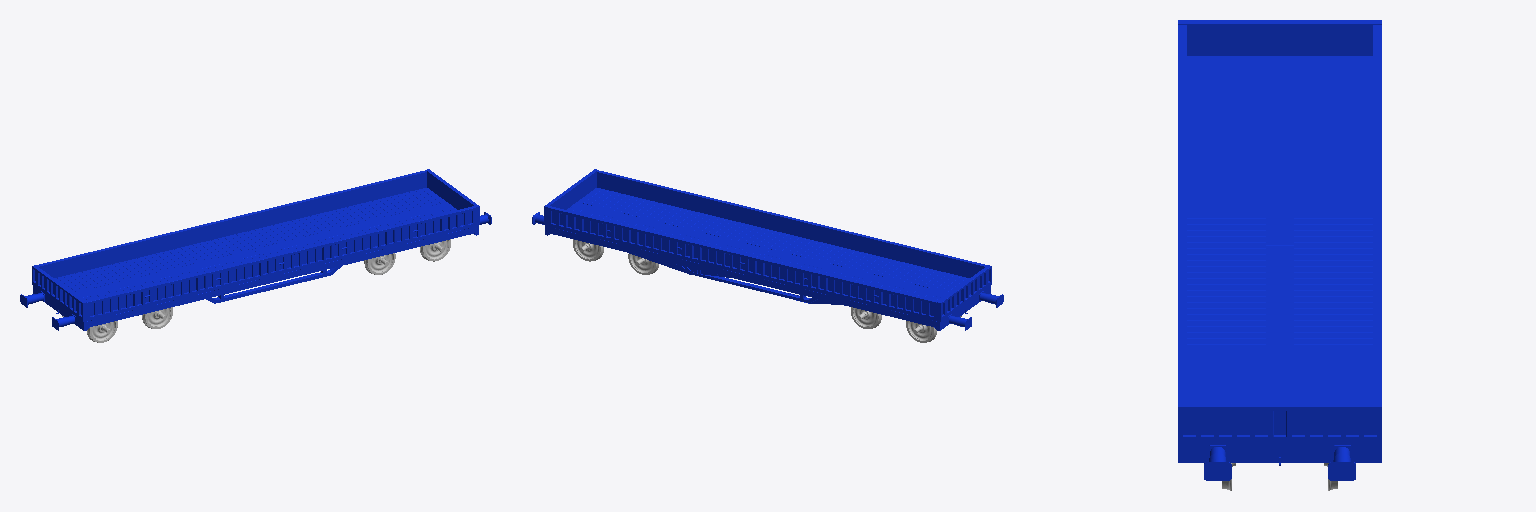
--- What the picture shows (computed from the rendered views, not written in the file) ---
Views: 3 orthographic renders of the robot side by side, from view 1: azimuth 30°, elevation 25°; view 2: azimuth 150°, elevation 25°; view 3: azimuth 270°, elevation 25°.
Model flachwagen with 29 links and 28 joints (4 revolute, 12 continuous, 12 fixed), rooted at base_link, posed every joint at zero.
Visible links, largest first — view 1: base_link; view 2: base_link; view 3: base_link, buffer11_link, buffer12_link.
Boxes of the visible links, left/top/right/bottom form: base_link: left=32, top=169, right=479, bottom=330; base_link: left=544, top=169, right=991, bottom=330; base_link: left=1178, top=20, right=1381, bottom=465; buffer11_link: left=1328, top=445, right=1355, bottom=480; buffer12_link: left=1204, top=445, right=1231, bottom=480.
Size in the robot's own frame: 14.02 by 2.86 by 1.74 metres.
Meshes: 5 distinct files referenced, 9 mesh visuals loaded (3 Collada DAE); not drawn: 4 (reference not matched to a file when rendering).

The robot description file, URDF, robot "flachwagen":
<?xml version="1.0"?>
<robot name="flachwagen">
    
    <material name="silver">
        <color rgba=".1 .25 .875 1"/>
    </material>
            
    <!-- _______________________________________________ Body _______________________________________________ -->
    <link name="base_link">
        <visual>
            <origin xyz="0 0 0" rpy="0 0 0"/>
            <geometry>
                <mesh filename="package://coupling_detection_gazebo/models/meshes/Remms_Wagenkasten.dae" scale="1 1 1"/>
            </geometry>
            <material name="silver"/>
        </visual>
        <collision>
            <origin xyz="0 0 0" rpy="0 0 0"/>
            <geometry>
                <mesh filename="package://coupling_detection_gazebo/models/meshes/Remms_Wagenkasten.dae" scale="1 1 1"/>
            </geometry>
        </collision>
        <inertial>
            <origin xyz="0 0 0.7" rpy="0 0 0"/>
            <mass value="11789"/>
            <inertia ixx="10091" iyy="178052" izz="187990" ixy="0" ixz="0" iyz="0"/>
        </inertial>
    </link>
    <gazebo reference="base_link">
        <material>Gazebo/Signalblau</material>
    </gazebo>
    <!-- _______________________________________________ Coupling _______________________________________________ -->

     <link name="couplerbase_link">
         <visual>
            <origin xyz="0.5 0 0" rpy="0 0 0"/>
            <geometry>
                <mesh filename="package://coupling_detection_gazebo/models/meshes/UIC-Haken.dae" scale="1 1 1"/>
            </geometry>
            <material name="silver"/>
         </visual>
         <collision name='coupling_collision'>
            <origin xyz="0.5 0 0" rpy="0 0 0"/>
            <geometry>
                <mesh filename="package://coupling_detection_gazebo/models/meshes/UIC-Haken.dae" scale="1 1 1"/>
            </geometry>
		</collision>
        <inertial>
            <origin xyz=".575 0 0" rpy="0 0 0"/>
            <mass value="40"/>
            <inertia ixx="0.5" iyy=".5" izz=".8" ixy="0" ixz="0" iyz="0"/>
        </inertial>
     </link>

    <gazebo reference="couplerbase_link">
        <material>Gazebo/Graphitschwarz</material>
    </gazebo> 

    <joint name="couplerbase_joint" type="revolute">
        <parent link="base_link"/>
        <child link="couplerbase_link"/>
        <origin rpy="0 0 0" xyz="5.89 0 0.535"/>
        <limit lower="-.1" upper=".1" effort="1.0" velocity="0.5"/>
        <axis xyz="0 0 1"/>
        <dynamics damping="100"/>
    </joint>   

    <gazebo reference="couplerbase_joint">
        <implicitSpringDamper>true</implicitSpringDamper>
        <springStiffness>100</springStiffness>
    </gazebo> 
    
    <link name="couplerbase2_link">
         <visual>
            <origin xyz="0.5 0 0" rpy="0 0 0"/>
            <geometry>
                <mesh filename="package://coupling_detection_gazebo/models/meshes/UIC-Haken.dae" scale="1 1 1"/>
            </geometry>
            <material name="silver"/>
         </visual>
         <collision name='coupling_collision'>
            <origin xyz="0.5 0 0" rpy="0 0 0"/>
            <geometry>
                <mesh filename="package://coupling_detection_gazebo/models/meshes/UIC-Haken.dae" scale="1 1 1"/>
            </geometry>
		</collision>
        <inertial>
            	<origin xyz="0.575 0 0" rpy="0 0 0"/>
            	<mass value="40"/>
            <inertia ixx="0.5" iyy=".5" izz=".8" ixy="0" ixz="0" iyz="0"/>
        </inertial>
    </link>

    <gazebo reference="couplerbase2_link">
        <material>Gazebo/Graphitschwarz</material>
    </gazebo> 

    <joint name="couplerbase2_joint" type="revolute">
        <parent link="base_link"/>
        <child link="couplerbase2_link"/>
        <origin rpy="0 0 3.141592654" xyz="-5.89 0 .535"/>
        <limit lower="-.1" upper=".1" effort="1.0" velocity="0.5"/>
        <axis xyz="0 0 1"/>
        <dynamics damping="100"/>
    </joint>  
    
    <gazebo reference="couplerbase2_joint">
        <implicitSpringDamper>true</implicitSpringDamper>
        <springStiffness>100</springStiffness>
    </gazebo> 

    <!-- _______________________________________________ Seitenpuffern _______________________________________________ -->

    <link name="buffer11_link">
         <visual>
            <origin xyz="0 0 0" rpy="0 0 0"/>
            <geometry>
                <mesh filename="package://coupling_detection_gazebo/models/meshes/Puffer_Einzel.dae" scale="1 1 1"/>
            </geometry>
            <material name="silver"/>
         </visual>
         <collision name='buffer11_collision'>
            <origin xyz="0 0 0" rpy="0 0 0"/>
            <geometry>
                <mesh filename="package://coupling_detection_gazebo/models/meshes/Puffer_Einzel.dae" scale="1 1 1"/>
            </geometry>
		</collision>
        <inertial>
            <origin xyz=".075 0 0" rpy="0 0 0"/>
            <mass value="40"/>
            <inertia ixx="0.5" iyy=".5" izz=".8" ixy="0" ixz="0" iyz="0"/>
        </inertial>
     </link>
    
    <gazebo reference="buffer11_link">
        <material>Gazebo/Graphitschwarz</material>
    </gazebo> 

    <joint name="buffer11_joint" type="fixed">
        <parent link="base_link"/>
        <child link="buffer11_link"/>
        <origin rpy="0 0 0" xyz="6.39 .875 0.52"/>
    </joint>   

    <link name="buffer12_link">
         <visual>
            <origin xyz="0 0 0" rpy="0 0 0"/>
            <geometry>
                <mesh filename="package://coupling_detection_gazebo/models/meshes/Puffer_Einzel.dae" scale="1 1 1"/>
            </geometry>
            <material name="silver"/>
         </visual>
         <collision name='buffer12_collision'>
            <origin xyz="0 0 0" rpy="0 0 0"/>
            <geometry>
                <mesh filename="package://coupling_detection_gazebo/models/meshes/Puffer_Einzel.dae" scale="1 1 1"/>
            </geometry>
		</collision>
        <inertial>
            <origin xyz=".075 0 0" rpy="0 0 0"/>
            <mass value="40"/>
            <inertia ixx="0.5" iyy=".5" izz=".8" ixy="0" ixz="0" iyz="0"/>
        </inertial>
     </link>
    
    <gazebo reference="buffer12_link">
        <material>Gazebo/Graphitschwarz</material>
    </gazebo> 

    <joint name="buffer12_joint" type="fixed">
        <parent link="base_link"/>
        <child link="buffer12_link"/>
        <origin rpy="0 0 0" xyz="6.39 -.875 0.52"/>
    </joint>   

    <link name="buffer21_link">
         <visual>
            <origin xyz="0 0 0" rpy="0 0 0"/>
            <geometry>
                <mesh filename="package://coupling_detection_gazebo/models/meshes/Puffer_Einzel.dae" scale="1 1 1"/>
            </geometry>
            <material name="silver"/>
         </visual>
         <collision name='buffer21_collision'>
            <origin xyz="0 0 0" rpy="0 0 0"/>
            <geometry>
                <mesh filename="package://coupling_detection_gazebo/models/meshes/Puffer_Einzel.dae" scale="1 1 1"/>
            </geometry>
		</collision>
        <inertial>
            <origin xyz=".075 0 0" rpy="0 0 0"/>
            <mass value="40"/>
            <inertia ixx="0.5" iyy=".5" izz=".8" ixy="0" ixz="0" iyz="0"/>
        </inertial>
     </link>
    
    <gazebo reference="buffer21_link">
        <material>Gazebo/Graphitschwarz</material>
    </gazebo> 

    <joint name="buffer21_joint" type="fixed">
        <parent link="base_link"/>
        <child link="buffer21_link"/>
        <origin rpy="0 0 3.141592654" xyz="-6.39 .875 0.52"/>
    </joint>

    <link name="buffer22_link">
         <visual>
            <origin xyz="0 0 0" rpy="0 0 0"/>
            <geometry>
                <mesh filename="package://coupling_detection_gazebo/models/meshes/Puffer_Einzel.dae" scale="1 1 1"/>
            </geometry>
            <material name="silver"/>
         </visual>
         <collision name='buffer22_collision'>
            <origin xyz="0 0 0" rpy="0 0 0"/>
            <geometry>
                <mesh filename="package://coupling_detection_gazebo/models/meshes/Puffer_Einzel.dae" scale="1 1 1"/>
            </geometry>
		</collision>
        <inertial>
            <origin xyz=".075 0 0" rpy="0 0 0"/>
            <mass value="40"/>
            <inertia ixx="0.5" iyy=".5" izz=".8" ixy="0" ixz="0" iyz="0"/>
        </inertial>
     </link>
    
    <gazebo reference="buffer22_link">
        <material>Gazebo/Graphitschwarz</material>
    </gazebo> 

    <joint name="buffer22_joint" type="fixed">
        <parent link="base_link"/>
        <child link="buffer22_link"/>
        <origin rpy="0 0 3.141592654" xyz="-6.39 -.875 0.52"/>
    </joint>
       

    <!-- _______________________________________________ Drehgestell vorne _______________________________________________ -->
    <link name="front_bogie_link">
        <visual>
            <origin xyz="0 0 -0.4" rpy="0 0 0"/>
            <geometry>
                <mesh filename="package://coupling_detection_gazebo/models/meshes/Y25_DG_Rahmen.dae" scale="1 1 1"/>
            </geometry>
            <material name="silver"/>
        </visual>
        <collision>
            <origin xyz="0 0 -0.4" rpy="0 0 0"/>
            <geometry>
                <mesh filename="package://coupling_detection_gazebo/models/meshes/Y25_DG_Rahmen.dae" scale="1 1 1"/>
            </geometry>
        </collision>
        <inertial>
            <origin xyz="0 0 -0.28" rpy="0 0 0"/>
            <mass value="2228"/>
            <inertia ixx="1681" iyy="1691" izz="3270" ixy="0" ixz="0" iyz="0"/>
        </inertial>
    </link>
    
    <joint name="front_bogie_joint" type="revolute">
        <axis xyz="0 0 1"/>
        <limit lower="-.1745" upper=".1745" effort="1.0" velocity="0.5"/>
        <parent link="base_link"/>
        <child link="front_bogie_link"/>
        <origin rpy="0 0 0" xyz="4.5 0 .4"/>
    </joint>
    
    <gazebo reference="front_bogie_link">
        <mu1>0</mu1>
        <mu2>0</mu2>
        <material>Gazebo/Grey</material>
    </gazebo>
    
    <!-- _______________________________________________ DG vorne, Radsatz vorne _______________________________________________ -->
    <link name="front_bogie_axle1_link">
        <visual>
            <origin xyz="0 0 0" rpy="1.570796 0 0"/>
            <geometry>
                <mesh filename="package://coupling_detection_gazebo/models/meshes/Radsatz.dae" scale="1 1 1"/>
            </geometry>
        </visual>
        <collision>
            <origin xyz="0 0 0" rpy="1.570796 0 0"/>
            <geometry>
                <mesh filename="package://coupling_detection_gazebo/models/meshes/Radsatz.dae" scale="1 1 1"/>
            </geometry>
        </collision>
        <inertial>
            <mass value="350"/>
            <inertia ixx="141.659" iyy="141.659" izz="0.984375" ixy="0" ixz="0" iyz="0"/>
        </inertial>
    </link>
    <gazebo reference="front_bogie_axle1_link">
        <material>Gazebo/DarkGrey</material>
        <mu1>0.01</mu1>
        <mu2>0.01</mu2>
    </gazebo>
    
    <joint name="front_bogie_axle1_link_joint" type="continuous">
        <parent link="front_bogie_link"/>
        <child link="front_bogie_axle1_link"/>
        <origin rpy="-1.570796 0 0" xyz=".9 0 -.4"/>
        <axis xyz="0 0 1"/>
        <dynamics damping="0" friction="10"/>
    </joint>
    
    <link name="front_bogie_axle1_wheel_r_link">
        <collision>
            <geometry>
                <cylinder length=".15" radius=".46"/>
            </geometry>
        </collision>
        <inertial>
            <mass value="400"/>
            <inertia ixx="21.91" iyy="21.91" izz="42.32" ixy="0" ixz="0" iyz="0"/>
        </inertial>
    </link>
    <gazebo reference="front_bogie_axle1_wheel_r_link">
        <material>Gazebo/DarkGrey</material>
    </gazebo>
    
    <joint name="front_bogie_axle1_wheel_r_link_joint" type="fixed">
        <parent link="front_bogie_axle1_link"/>
        <child link="front_bogie_axle1_wheel_r_link"/>
        <origin rpy="0 0 0" xyz="0 0 .75"/>
    </joint>
    
    <link name="front_bogie_axle1_wheel_l_link">
        <collision>
            <geometry>
                <cylinder length=".15" radius=".46"/>
            </geometry>
        </collision>
        <inertial>
            <mass value="400"/>
            <inertia ixx="21.91" iyy="21.91" izz="42.32" ixy="0" ixz="0" iyz="0"/>
        </inertial>
    </link>
    <gazebo reference="front_bogie_axle1_wheel_l_link">
        <material>Gazebo/Grey</material>
        <mu1>0.01</mu1>
        <mu2>0.01</mu2>
    </gazebo>
    
    <joint name="front_bogie_axle1_wheel_l_link_joint" type="fixed">
        <parent link="front_bogie_axle1_link"/>
        <child link="front_bogie_axle1_wheel_l_link"/>
        <origin rpy="0 0 0" xyz="0 0 -.75"/>
    </joint>
    
    <link name="front_bogie_axle1_guide_r_link">
        <inertial>
            <mass value="1"/>
            <inertia ixx=".0233333" iyy=".0233333" izz=".005" ixy="0" ixz="0" iyz="0"/>
        </inertial>
        <collision>
            <geometry>
                <cylinder length="0.1" radius=".02"/>
            </geometry>
        </collision>
    </link>
    
    <gazebo reference="front_bogie_axle1_guide_r_link">
        <mu1>0</mu1>
        <mu2>0</mu2>
    </gazebo>
    
    <joint name="front_bogie_axle1_guide_r_joint" type="continuous">
        <parent link="front_bogie_link"/>
        <child link="front_bogie_axle1_guide_r_link"/>
        <origin rpy="0 0 0" xyz=".9 -.698 -.85"/>
        <axis xyz="0 0 1"/>
    </joint>
    
    <link name="front_bogie_axle1_guide_l_link">
        <inertial>
            <mass value="1"/>
            <inertia ixx=".0233333" iyy=".0233333" izz=".005" ixy="0" ixz="0" iyz="0"/>
        </inertial>
        <collision>
            <geometry>
                <cylinder length="0.1" radius=".02"/>
            </geometry>
        </collision>
    </link>
    
    <gazebo reference="front_bogie_axle1_guide_l_link">
        <mu1>0</mu1>
        <mu2>0</mu2>
    </gazebo>
    
    <joint name="front_bogie_axle1_guide_l_joint" type="continuous">
        <parent link="front_bogie_link"/>
        <child link="front_bogie_axle1_guide_l_link"/>
        <origin rpy="0 0 0" xyz=".9 .698 -.85"/>
        <axis xyz="0 0 1"/>
    </joint>
    
    <!-- _______________________________________________ DG vorne, Radsatz hinten _______________________________________________ -->
    <link name="front_bogie_axle2_link">
        <visual>
            <origin xyz="0 0 0" rpy="1.570796 0 0"/>
            <geometry>
                <mesh filename="package://coupling_detection_gazebo/models/meshes/Radsatz.dae" scale="1 1 1"/>
            </geometry>
        </visual>
        <collision>
            <origin xyz="0 0 0" rpy="1.570796 0 0"/>
            <geometry>
                <mesh filename="package://coupling_detection_gazebo/models/meshes/Radsatz.dae" scale="1 1 1"/>
            </geometry>
        </collision>
        <inertial>
            <mass value="350"/>
            <inertia ixx="141.659" iyy="141.659" izz="0.984375" ixy="0" ixz="0" iyz="0"/>
        </inertial>
    </link>
    <gazebo reference="front_bogie_axle2_link">
        <material>Gazebo/DarkGrey</material>
    </gazebo>
    
    <joint name="front_bogie_axle2_link_joint" type="continuous">
        <parent link="front_bogie_link"/>
        <child link="front_bogie_axle2_link"/>
        <origin rpy="-1.570796 0 0" xyz="-.9 0 -.4"/>
        <axis xyz="0 0 1"/>
        <dynamics damping="0" friction="10"/>
    </joint>
    
    <link name="front_bogie_axle2_wheel_r_link">
        <collision>
            <geometry>
                <cylinder length=".15" radius=".46"/>
            </geometry>
        </collision>
        <inertial>
            <mass value="400"/>
            <inertia ixx="21.91" iyy="21.91" izz="42.32" ixy="0" ixz="0" iyz="0"/>
        </inertial>
    </link>
    <gazebo reference="front_bogie_axle2_wheel_r_link">
        <material>Gazebo/DarkGrey</material>
        <mu1>0.01</mu1>
        <mu2>0.01</mu2>
    </gazebo>
    


    <joint name="front_bogie_axle2_wheel_r_link_joint" type="fixed">
        <parent link="front_bogie_axle2_link"/>
        <child link="front_bogie_axle2_wheel_r_link"/>
        <origin rpy="0 0 0" xyz="0 0 .75"/>
    </joint>
    
    <link name="front_bogie_axle2_wheel_l_link">
        <collision>
            <geometry>
                <cylinder length=".15" radius=".46"/>
            </geometry>
        </collision>
        <inertial>
            <mass value="400"/>
            <inertia ixx="21.91" iyy="21.91" izz="42.32" ixy="0" ixz="0" iyz="0"/>
        </inertial>
    </link>
    <gazebo reference="front_bogie_axle2_wheel_l_link">
        <material>Gazebo/DarkGrey</material>
        <mu1>0.01</mu1>
        <mu2>0.01</mu2>
    </gazebo>
    
    <joint name="front_bogie_axle2_wheel_l_link_joint" type="fixed">
        <parent link="front_bogie_axle2_link"/>
        <child link="front_bogie_axle2_wheel_l_link"/>
        <origin rpy="0 0 0" xyz="0 0 -.75"/>
    </joint>

    
    <link name="front_bogie_axle2_guide_r_link">
        <inertial>
            <mass value="1"/>
            <inertia ixx=".0233333" iyy=".0233333" izz=".005" ixy="0" ixz="0" iyz="0"/>
        </inertial>
        <collision>
            <geometry>
                <cylinder length="0.1" radius=".02"/>
            </geometry>
        </collision>
    </link>
    
    <gazebo reference="front_bogie_axle2_guide_r_link">
        <mu1>0</mu1>
        <mu2>0</mu2>
    </gazebo>
    
    <joint name="front_bogie_axle2_guide_r_joint" type="continuous">
        <parent link="front_bogie_link"/>
        <child link="front_bogie_axle2_guide_r_link"/>
        <origin rpy="0 0 0" xyz="-.9 -.698 -.85"/>
        <axis xyz="0 0 1"/>
    </joint>
    
    <link name="front_bogie_axle2_guide_l_link">
        <inertial>
            <mass value="1"/>
            <inertia ixx=".0233333" iyy=".0233333" izz=".005" ixy="0" ixz="0" iyz="0"/>
        </inertial>
        <collision>
            <geometry>
                <cylinder length="0.1" radius=".02"/>
            </geometry>
        </collision>
    </link>
    
    <gazebo reference="front_bogie_axle2_guide_l_link">
        <mu1>0</mu1>
        <mu2>0</mu2>
    </gazebo>
    
    <joint name="front_bogie_axle2_guide_l_joint" type="continuous">
        <parent link="front_bogie_link"/>
        <child link="front_bogie_axle2_guide_l_link"/>
        <origin rpy="0 0 0" xyz="-.9 .698 -.85"/>
        <axis xyz="0 0 1"/>
    </joint>
    
    <!-- _______________________________________________ Drehgestell hinten _______________________________________________ -->
    <link name="rear_bogie_link">
        <visual>
            <origin xyz="0 0 -0.4" rpy="0 0 0"/>
            <geometry>
                <mesh filename="package://coupling_detection_gazebo/models/meshes/Y25_DG_Rahmen.dae" scale="1 1 1"/>
            </geometry>
            <material name="silver"/>
        </visual>
        <collision>
            <origin xyz="0 0 -0.4" rpy="0 0 0"/>
            <geometry>
                <mesh filename="package://coupling_detection_gazebo/models/meshes/Y25_DG_Rahmen.dae" scale="1 1 1"/>
            </geometry>
        </collision>
        <inertial>
            <origin xyz="0 0 -0.28" rpy="0 0 0"/>
            <mass value="2228"/>
            <inertia ixx="1681" iyy="1691" izz="3270" ixy="0" ixz="0" iyz="0"/>
        </inertial>
    </link>
    
    <joint name="rear_bogie_joint" type="revolute">
        <axis xyz="0 0 1"/>
        <limit lower="-.1745" upper=".1745" effort="1.0" velocity="0.5"/>
        <parent link="base_link"/>
        <child link="rear_bogie_link"/>
        <origin rpy="0 0 0" xyz="-4.5 0 .4"/>
    </joint>

    <gazebo reference="rear_bogie_link">
        <mu1>0</mu1>
        <mu2>0</mu2>
        <material>Gazebo/Grey</material>
    </gazebo>
    
    <!-- _______________________________________________ DG hinten, Radsatz vorne _______________________________________________ -->
    <link name="rear_bogie_axle1_link">
        <visual>
            <origin xyz="0 0 0" rpy="1.570796 0 0"/>
            <geometry>
                <mesh filename="package://coupling_detection_gazebo/models/meshes/Radsatz.dae" scale="1 1 1"/>
            </geometry>
        </visual>
        <collision>
            <origin xyz="0 0 0" rpy="1.570796 0 0"/>
            <geometry>
                <mesh filename="package://coupling_detection_gazebo/models/meshes/Radsatz.dae" scale="1 1 1"/>
            </geometry>
        </collision>
        <inertial>
            <mass value="350"/>
            <inertia ixx="141.659" iyy="141.659" izz="0.984375" ixy="0" ixz="0" iyz="0"/>
        </inertial>
    </link>
    <gazebo reference="rear_bogie_axle1_link">
        <material>Gazebo/DarkGrey</material>
    </gazebo>
    
    <joint name="rear_bogie_axle1_link_joint" type="continuous">
        <parent link="rear_bogie_link"/>
        <child link="rear_bogie_axle1_link"/>
        <origin rpy="-1.570796 0 0" xyz=".9 0 -.4"/>
        <axis xyz="0 0 1"/>
        <dynamics damping="0" friction="10"/>
    </joint>
    
    <link name="rear_bogie_axle1_wheel_r_link">
        <collision>
            <geometry>
                <cylinder length=".15" radius=".46"/>
            </geometry>
        </collision>
        <inertial>
            <mass value="400"/>
            <inertia ixx="21.91" iyy="21.91" izz="42.32" ixy="0" ixz="0" iyz="0"/>
        </inertial>
    </link>
    <gazebo reference="rear_bogie_axle1_wheel_r_link">
        <material>Gazebo/DarkGrey</material>
    </gazebo>
    
    <joint name="rear_bogie_axle1_wheel_r_link_joint" type="fixed">
        <parent link="rear_bogie_axle1_link"/>
        <child link="rear_bogie_axle1_wheel_r_link"/>
        <origin rpy="0 0 0" xyz="0 0 .75"/>
    </joint>
    
    <link name="rear_bogie_axle1_wheel_l_link">
        <collision>
            <geometry>
                <cylinder length=".15" radius=".46"/>
            </geometry>
        </collision>
        <inertial>
            <mass value="400"/>
            <inertia ixx="21.91" iyy="21.91" izz="42.32" ixy="0" ixz="0" iyz="0"/>
        </inertial>
    </link>
    <gazebo reference="rear_bogie_axle1_wheel_l_link">
        <material>Gazebo/DarkGrey</material>
    </gazebo>
    
    <joint name="rear_bogie_axle1_wheel_l_link_joint" type="fixed">
        <parent link="rear_bogie_axle1_link"/>
        <child link="rear_bogie_axle1_wheel_l_link"/>
        <origin rpy="0 0 0" xyz="0 0 -.75"/>
    </joint>
    
    <link name="rear_bogie_axle1_guide_r_link">
        <inertial>
            <mass value="1"/>
            <inertia ixx=".0233333" iyy=".0233333" izz=".005" ixy="0" ixz="0" iyz="0"/>
        </inertial>
        <collision>
            <geometry>
                <cylinder length="0.1" radius=".02"/>
            </geometry>
        </collision>
    </link>
    
    <gazebo reference="rear_bogie_axle1_guide_r_link">
        <mu1>0</mu1>
        <mu2>0</mu2>
    </gazebo>
    
    <joint name="rear_bogie_axle1_guide_r_joint" type="continuous">
        <parent link="rear_bogie_link"/>
        <child link="rear_bogie_axle1_guide_r_link"/>
        <origin rpy="0 0 0" xyz=".9 -.698 -.85"/>
        <axis xyz="0 0 1"/>
    </joint>
    
    <link name="rear_bogie_axle1_guide_l_link">
        <inertial>
            <mass value="1"/>
            <inertia ixx=".0233333" iyy=".0233333" izz=".005" ixy="0" ixz="0" iyz="0"/>
        </inertial>
        <collision>
            <geometry>
                <cylinder length="0.1" radius=".02"/>
            </geometry>
        </collision>
    </link>
    
    <gazebo reference="rear_bogie_axle1_guide_l_link">
        <mu1>0</mu1>
        <mu2>0</mu2>
    </gazebo>
    
    <joint name="rear_bogie_axle1_guide_l_joint" type="continuous">
        <parent link="rear_bogie_link"/>
        <child link="rear_bogie_axle1_guide_l_link"/>
        <origin rpy="0 0 0" xyz=".9 .698 -.85"/>
        <axis xyz="0 0 1"/>
    </joint>
    
    <!-- _______________________________________________ DG hinten, Radsatz hinten _______________________________________________ -->
    <link name="rear_bogie_axle2_link">
        <visual>
            <origin xyz="0 0 0" rpy="1.570796 0 0"/>
            <geometry>
                <mesh filename="package://coupling_detection_gazebo/models/meshes/Radsatz.dae" scale="1 1 1"/>
            </geometry>
        </visual>
        <collision>
            <origin xyz="0 0 0" rpy="1.570796 0 0"/>
            <geometry>
                <mesh filename="package://coupling_detection_gazebo/models/meshes/Radsatz.dae" scale="1 1 1"/>
            </geometry>
        </collision>
        <inertial>
            <mass value="350"/>
            <inertia ixx="141.659" iyy="141.659" izz="0.984375" ixy="0" ixz="0" iyz="0"/>
        </inertial>
    </link>
    <gazebo reference="rear_bogie_axle2_link">
        <material>Gazebo/DarkGrey</material>
    </gazebo>
    
    <joint name="rear_bogie_axle2_link_joint" type="continuous">
        <parent link="rear_bogie_link"/>
        <child link="rear_bogie_axle2_link"/>
        <origin rpy="-1.570796 0 0" xyz="-.9 0 -0.4"/>
        <axis xyz="0 0 1"/>
        <dynamics damping="0" friction="10"/>
    </joint>
    
    <link name="rear_bogie_axle2_wheel_r_link">
        <collision>
            <geometry>
                <cylinder length=".15" radius=".46"/>
            </geometry>
        </collision>
        <inertial>
            <mass value="400"/>
            <inertia ixx="21.91" iyy="21.91" izz="42.32" ixy="0" ixz="0" iyz="0"/>
        </inertial>
    </link>
    <gazebo reference="rear_bogie_axle2_wheel_r_link">
        <material>Gazebo/DarkGrey</material>
    </gazebo>
    
    <joint name="rear_bogie_axle2_wheel_r_link_joint" type="fixed">
        <parent link="rear_bogie_axle2_link"/>
        <child link="rear_bogie_axle2_wheel_r_link"/>
        <origin rpy="0 0 0" xyz="0 0 .75"/>
    </joint>
    
    <link name="rear_bogie_axle2_wheel_l_link">
        <collision>
            <geometry>
                <cylinder length=".15" radius=".46"/>
            </geometry>
        </collision>
        <inertial>
            <mass value="400"/>
            <inertia ixx="21.91" iyy="21.91" izz="42.32" ixy="0" ixz="0" iyz="0"/>
        </inertial>
    </link>
    <gazebo reference="rear_bogie_axle2_wheel_l_link">
        <material>Gazebo/DarkGrey</material>
    </gazebo>
    
    <joint name="rear_bogie_axle2_wheel_l_link_joint" type="fixed">
        <parent link="rear_bogie_axle2_link"/>
        <child link="rear_bogie_axle2_wheel_l_link"/>
        <origin rpy="0 0 0" xyz="0 0 -.75"/>
    </joint>

    
    <link name="rear_bogie_axle2_guide_r_link">
        <inertial>
            <mass value="1"/>
            <inertia ixx=".0233333" iyy=".0233333" izz=".005" ixy="0" ixz="0" iyz="0"/>
        </inertial>
        <collision>
            <geometry>
                <cylinder length="0.1" radius=".02"/>
            </geometry>
        </collision>
    </link>
    
    <gazebo reference="rear_bogie_axle2_guide_r_link">
        <mu1>0</mu1>
        <mu2>0</mu2>
    </gazebo>
    
    <joint name="rear_bogie_axle2_guide_r_joint" type="continuous">
        <parent link="rear_bogie_link"/>
        <child link="rear_bogie_axle2_guide_r_link"/>
        <origin rpy="0 0 0" xyz="-.9 -.698 -.85"/>
        <axis xyz="0 0 1"/>
    </joint>
    
    <link name="rear_bogie_axle2_guide_l_link">
        <inertial>
            <mass value="1"/>
            <inertia ixx=".0233333" iyy=".0233333" izz=".005" ixy="0" ixz="0" iyz="0"/>
        </inertial>
        <collision>
            <geometry>
                <cylinder length="0.1" radius=".02"/>
            </geometry>
        </collision>
    </link>
    
    <gazebo reference="rear_bogie_axle2_guide_l_link">
        <mu1>0</mu1>
        <mu2>0</mu2>
    </gazebo>
    
    <joint name="rear_bogie_axle2_guide_l_joint" type="continuous">
        <parent link="rear_bogie_link"/>
        <child link="rear_bogie_axle2_guide_l_link"/>
        <origin rpy="0 0 0" xyz="-.9 .698 -.85"/>
        <axis xyz="0 0 1"/>
    </joint>
    
</robot>
